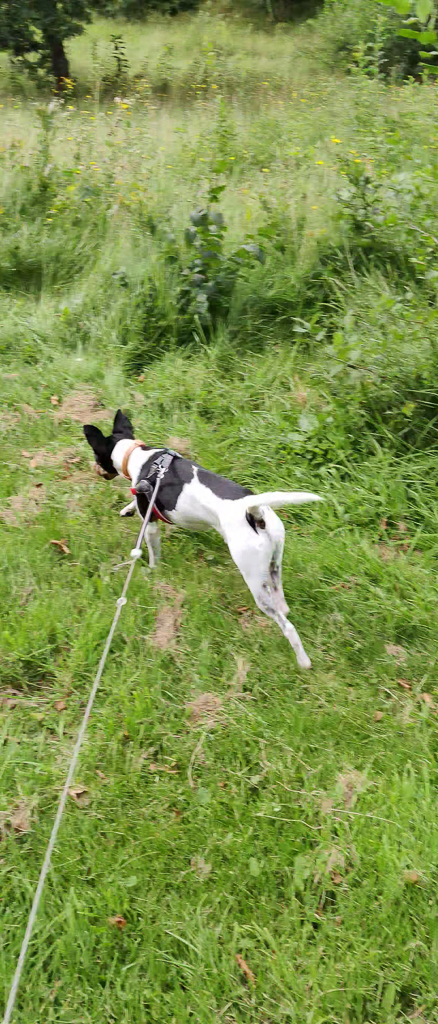Dog: (69, 400, 336, 685)
